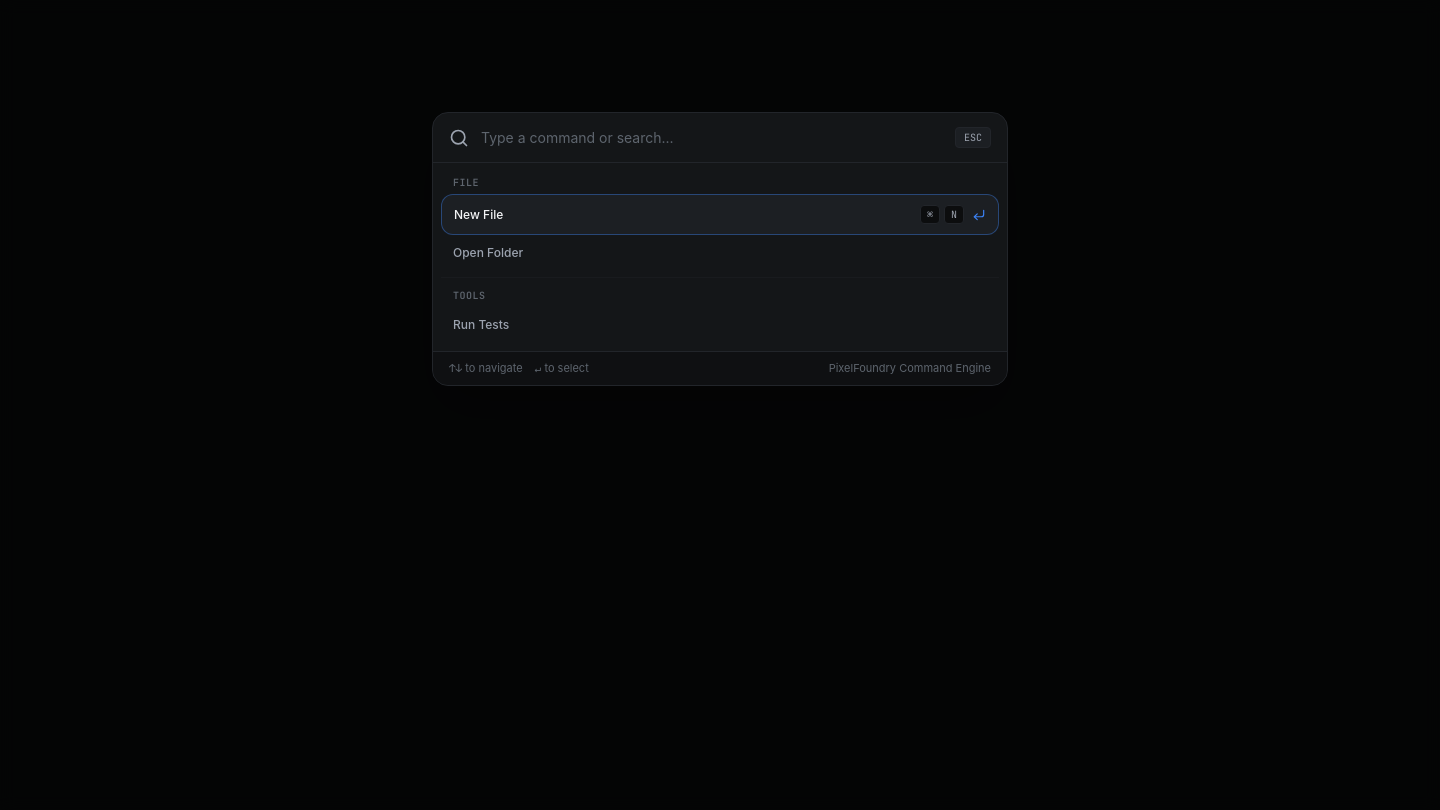
Test: CommandPalette › filters items by query
This screenshot has width=1440, height=810.
Type "test" into the dropdown at [712, 138], box x1=481 y1=128 x2=943 y2=148
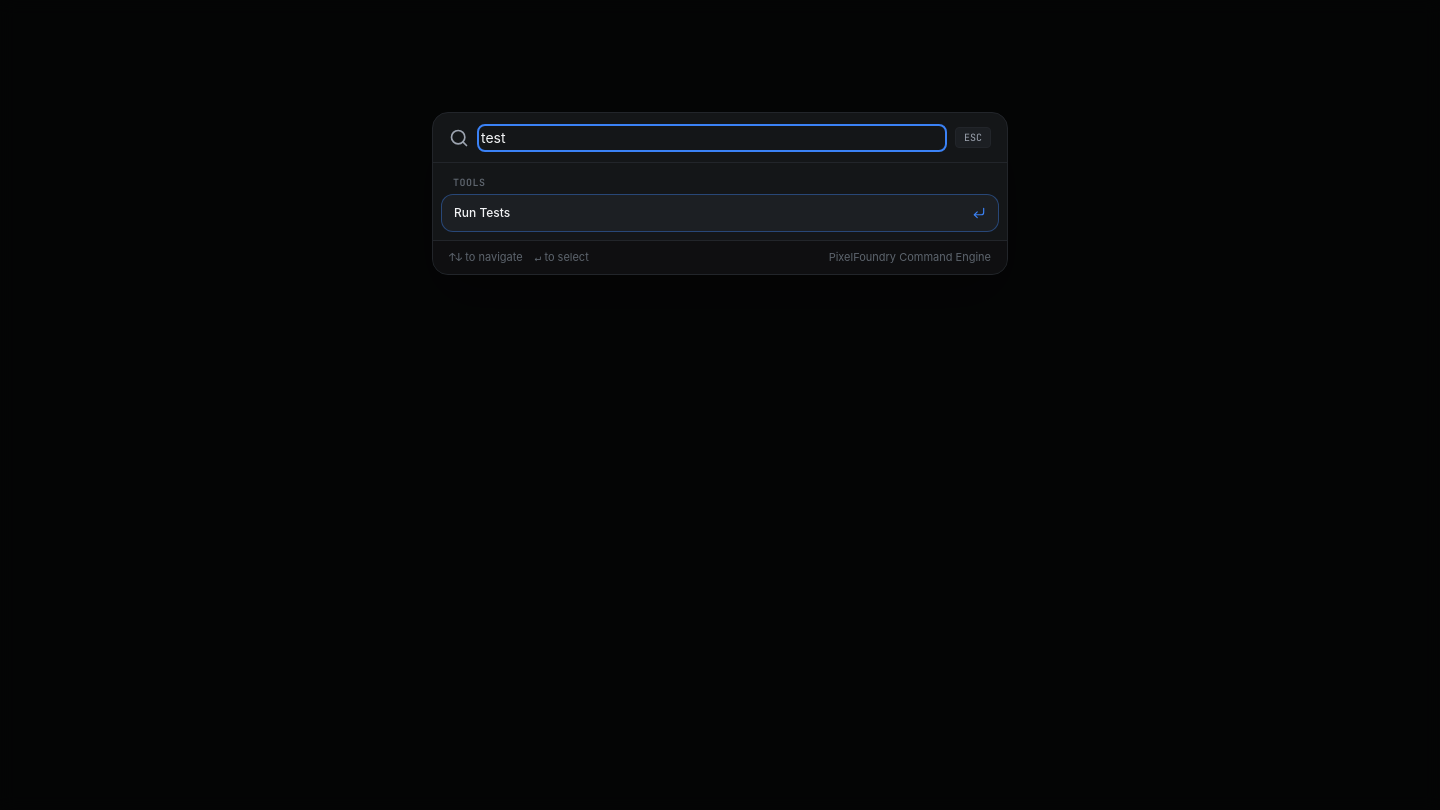
expect the text "Run Tests" is shown: met, box x1=454 y1=205 x2=510 y2=221
expect the option "New File" is gone: met
